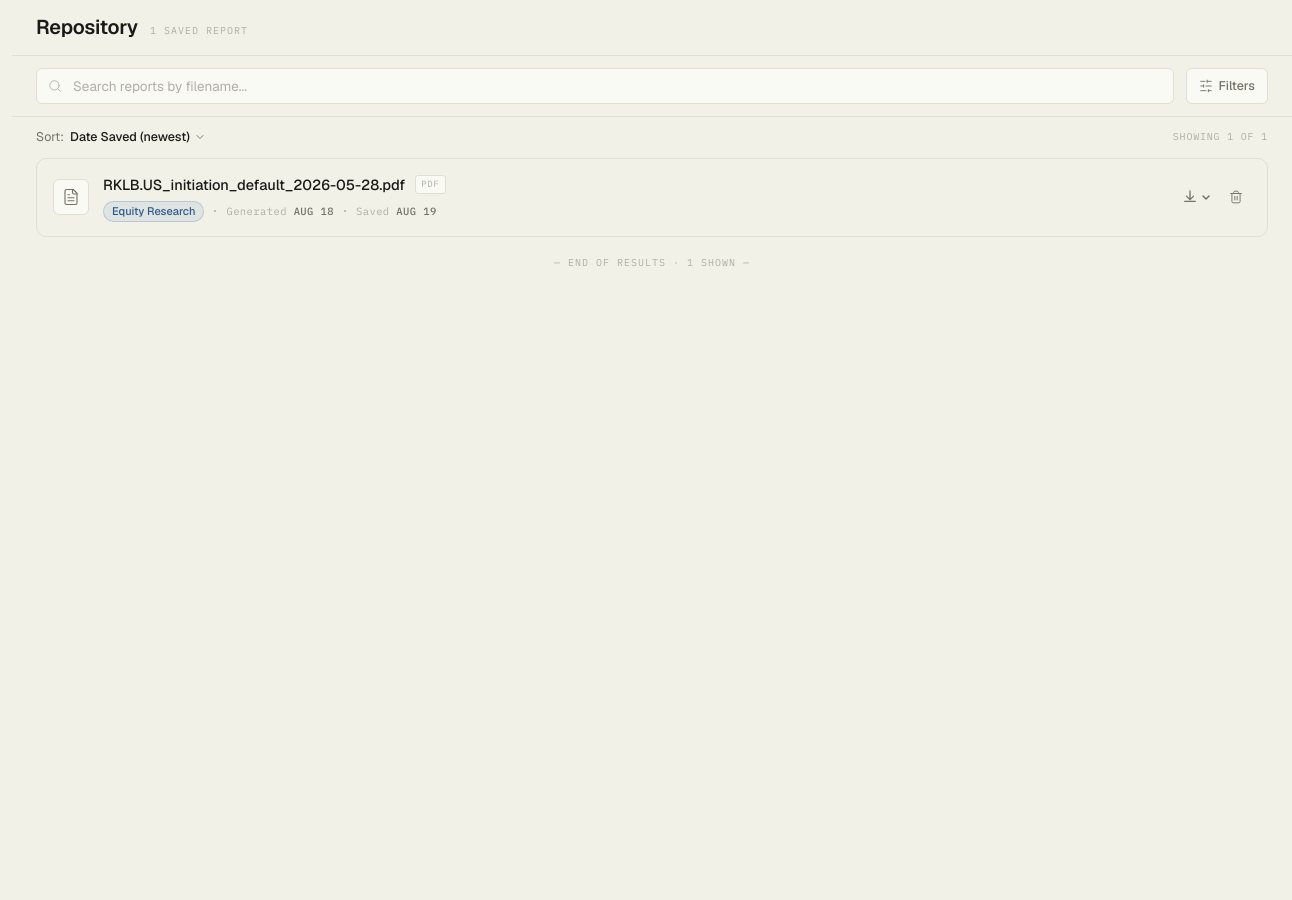
Test: Repository page › opens a v3 row via the v3_report file source (not the v1 report path)
What coordinates should you click on to do the following:
click the text "RKLB.US_initiation_default_2026-05-28.pdf"
I would click on:
 (254, 185)
Its box is left=103, top=173, right=405, bottom=196.
(page scrolled)
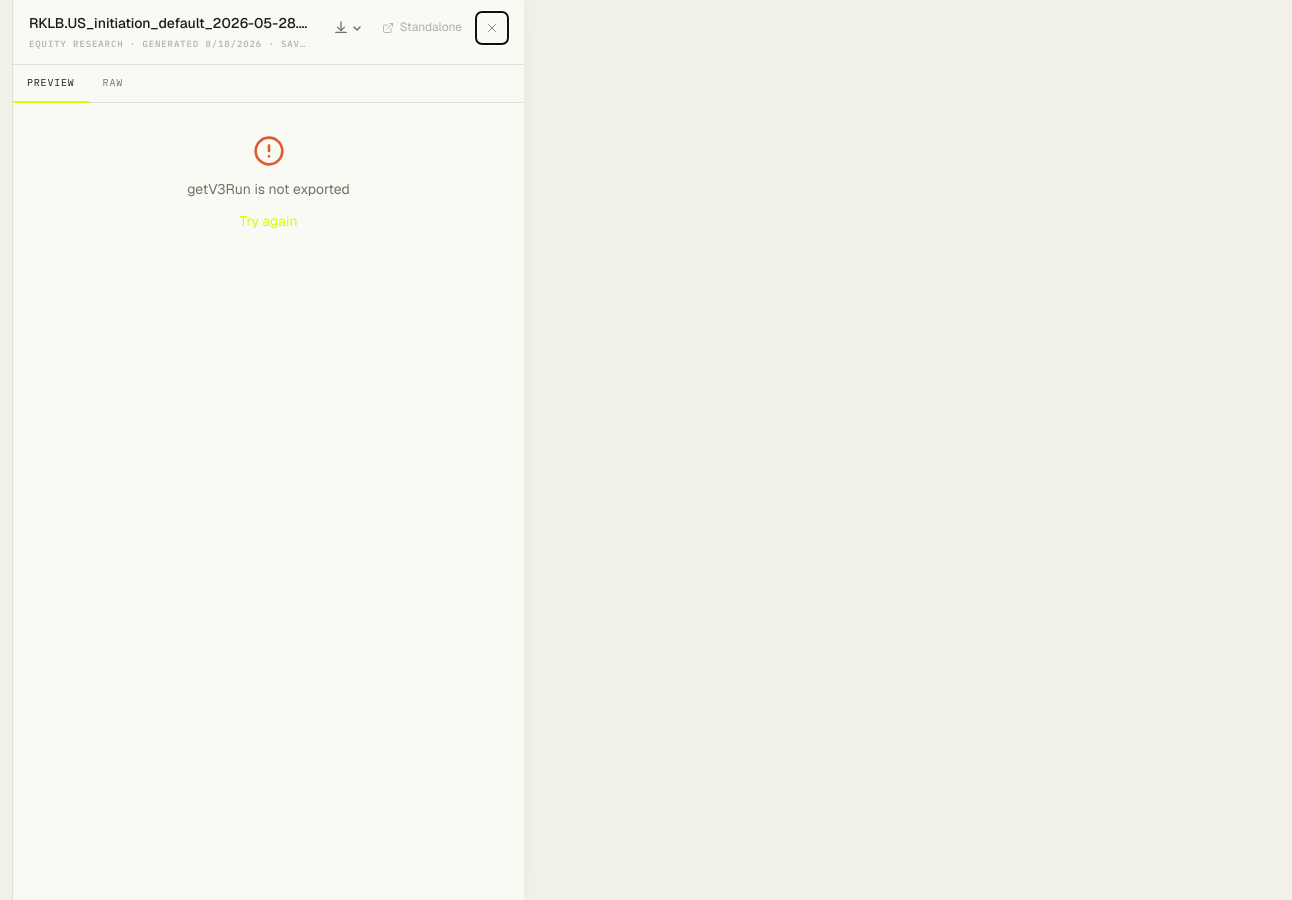
Now the element with test id "file-viewer" shows "RKLB.US_initiation_default_2026-05-28.pdf", box left=29, top=14, right=321, bottom=32
